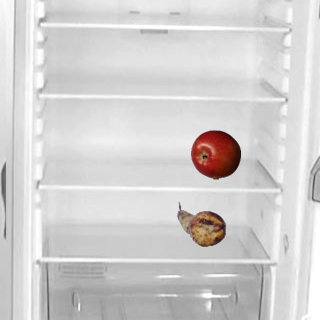Apple Braeburn: (190, 129, 240, 179)
Pear Abate: (176, 199, 226, 249)
